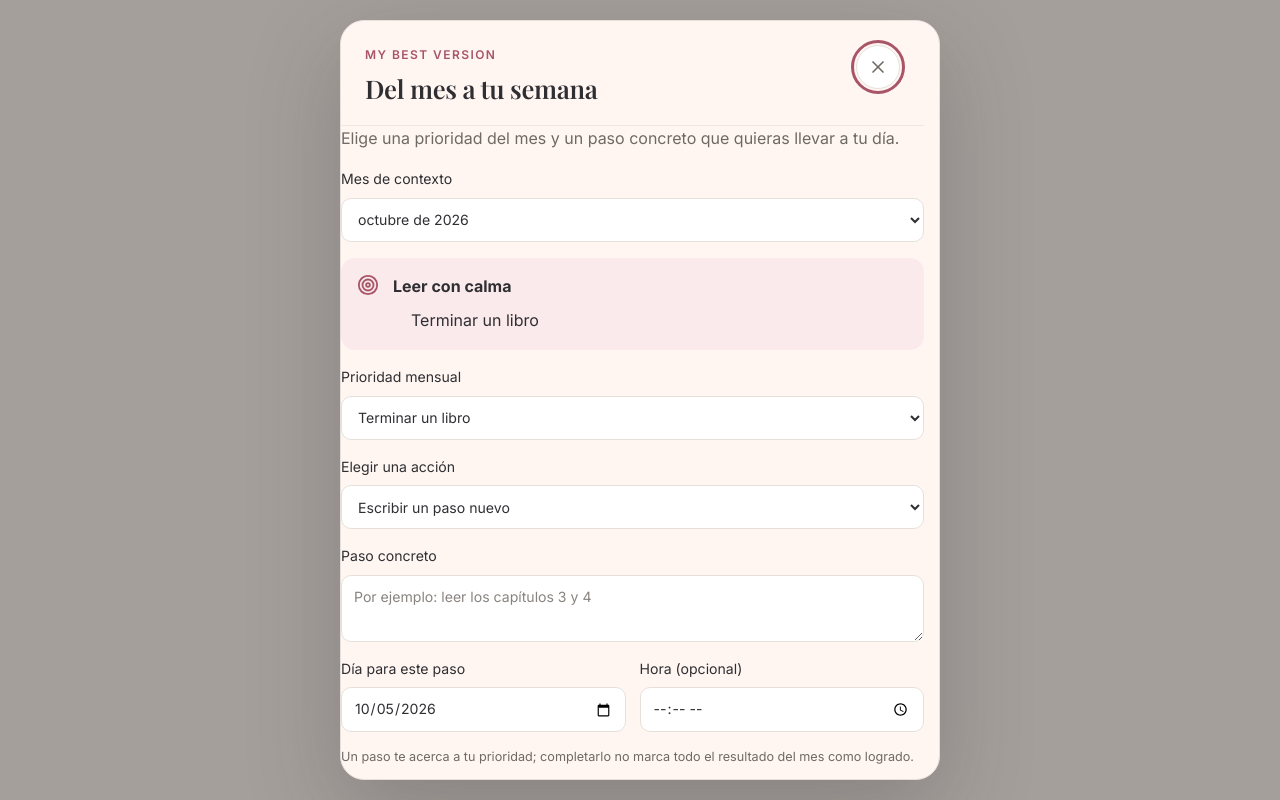
it: monthly priority editor › keeps a failed draft and retries without reporting success
The width and height of the screenshot is (1280, 800).
Type "Leer un capítulo" into the text box labelled "Paso concreto" at (632, 608), box x1=341 y1=575 x2=924 y2=642
(page scrolled)
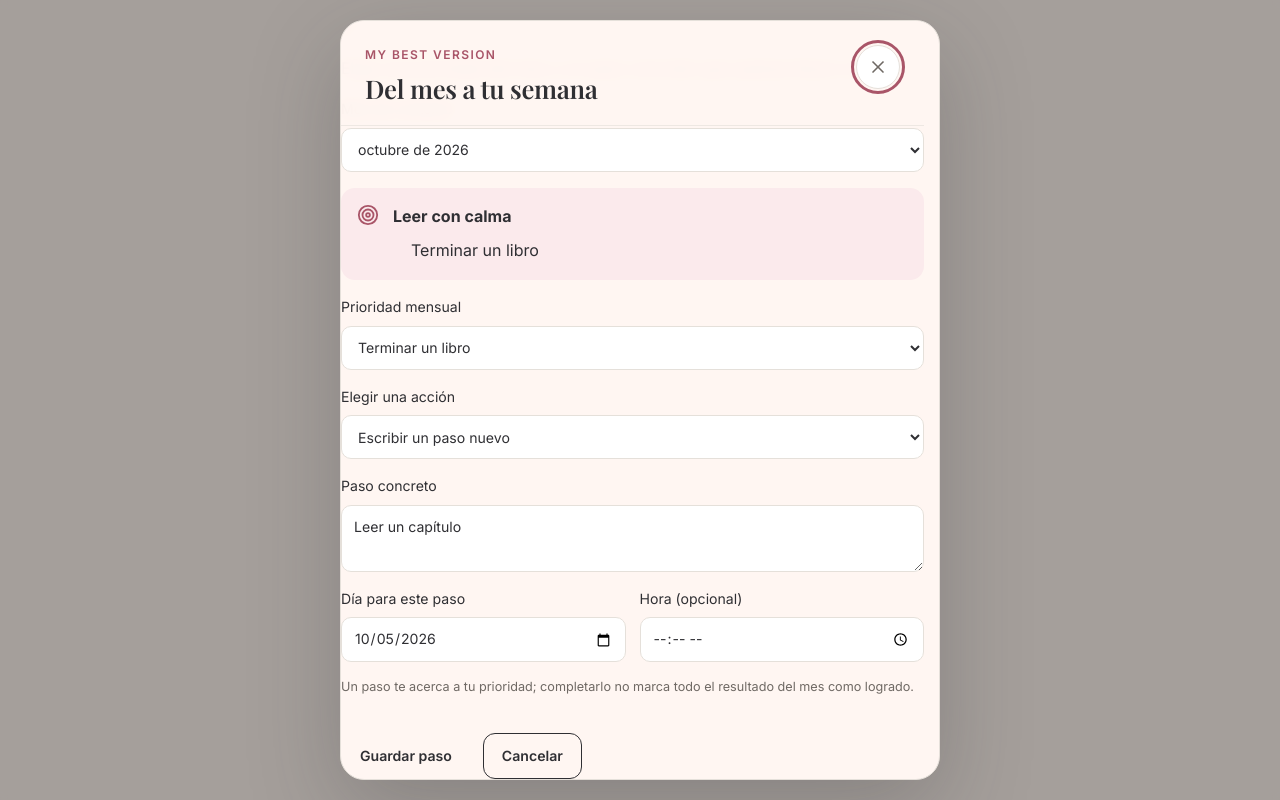
Click the button "Guardar paso" at (406, 756), box x1=341 y1=733 x2=471 y2=779
(page scrolled)
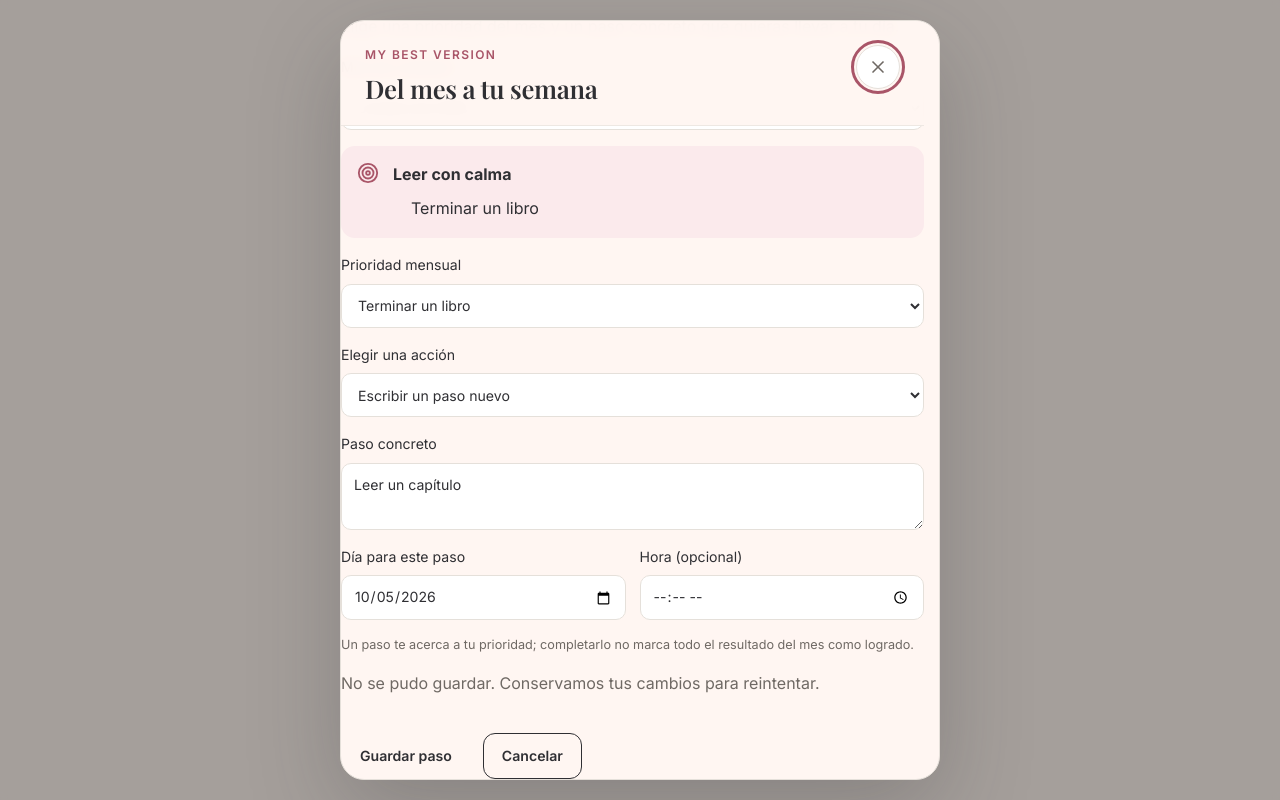
Expected: the heading "Tu paso está guardado" is not shown
Result: the message shows "Conservamos" at x1=341 y1=673 x2=820 y2=693
Click the button "Guardar paso" at (406, 756), box x1=341 y1=732 x2=471 y2=779
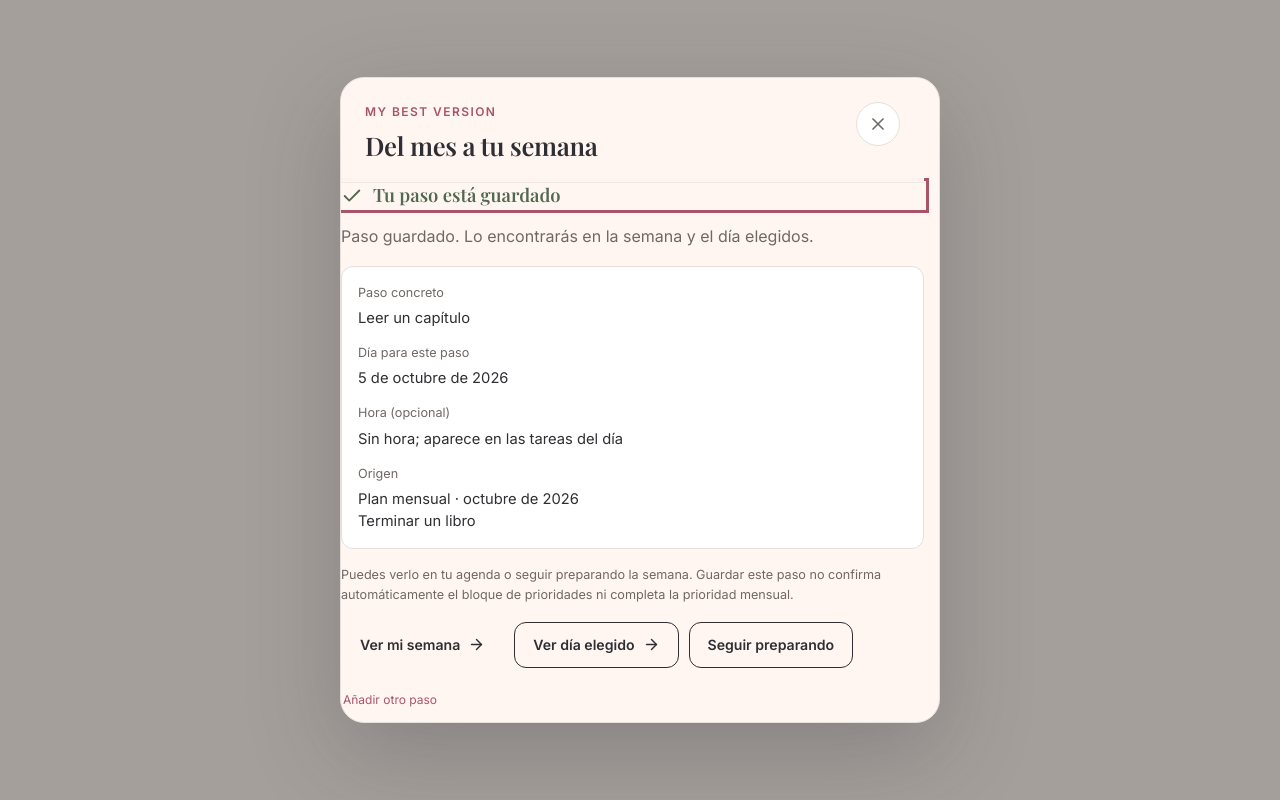
Result: the heading "Tu paso está guardado" is shown at x1=341 y1=182 x2=561 y2=207
